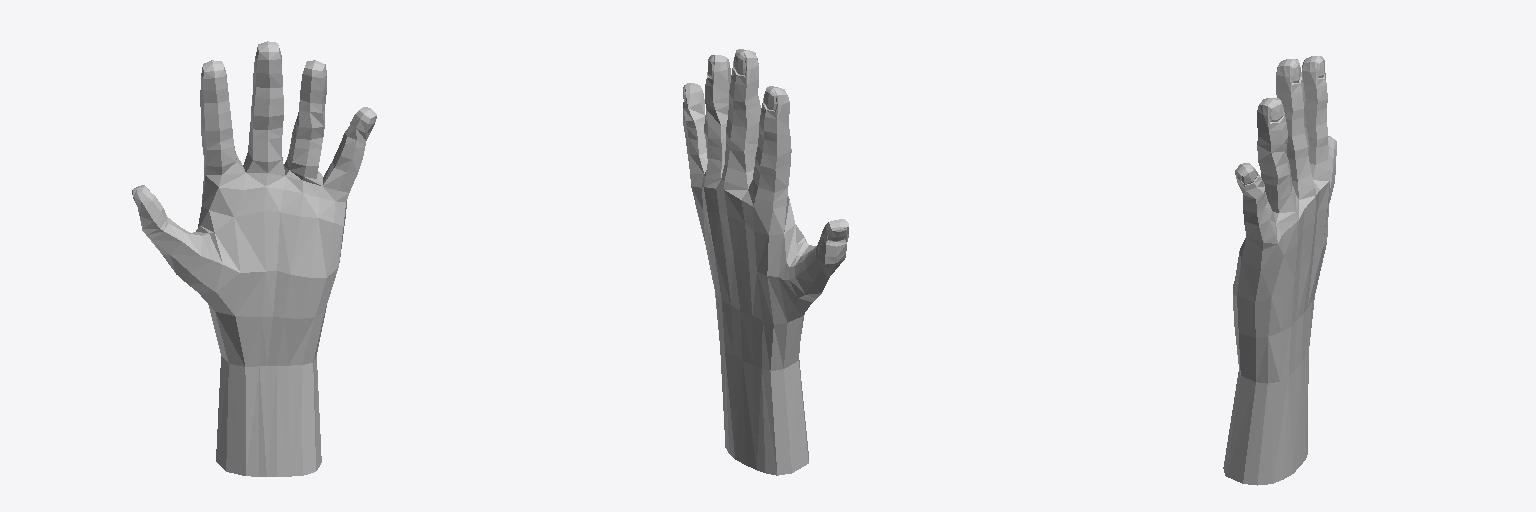
File: handAnimated4_000098.obj
The picture shows the model from 3 angles: view 1: azimuth 30°, elevation 25°; view 2: azimuth 150°, elevation 25°; view 3: azimuth 270°, elevation 25°; orthographic projection.
Visible parts, largest first — view 1: Cube.000_Cube.017_Detached_Detached; view 2: Cube.000_Cube.017_Detached_Detached; view 3: Cube.000_Cube.017_Detached_Detached.
Boxes of the visible parts, x1=… form: Cube.000_Cube.017_Detached_Detached: x1=132, y1=41, x2=376, y2=476; Cube.000_Cube.017_Detached_Detached: x1=683, y1=49, x2=848, y2=475; Cube.000_Cube.017_Detached_Detached: x1=1223, y1=56, x2=1336, y2=485.
Bounding box in the file's own units: 0.6964 × 1.34 × 0.3353.